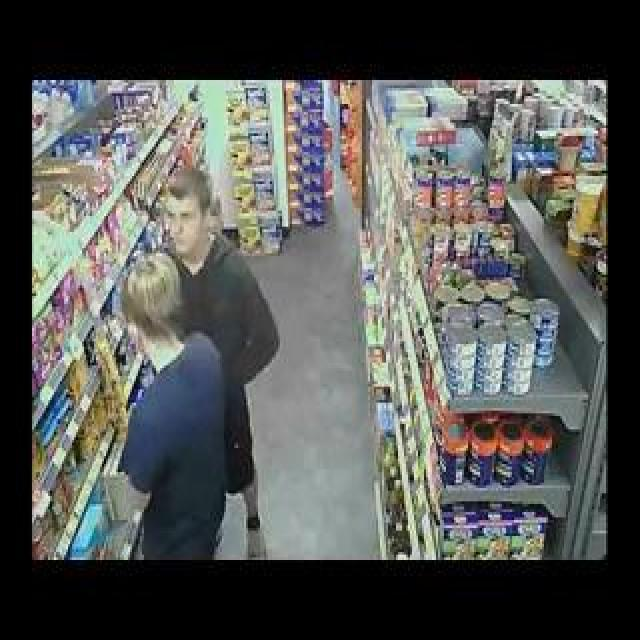Shoplifting: (48, 151, 318, 592)
